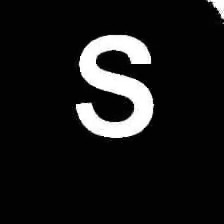LTR_S: (69, 28, 160, 145)
